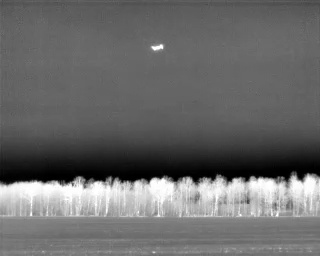DRONE: (148, 39, 168, 56)
